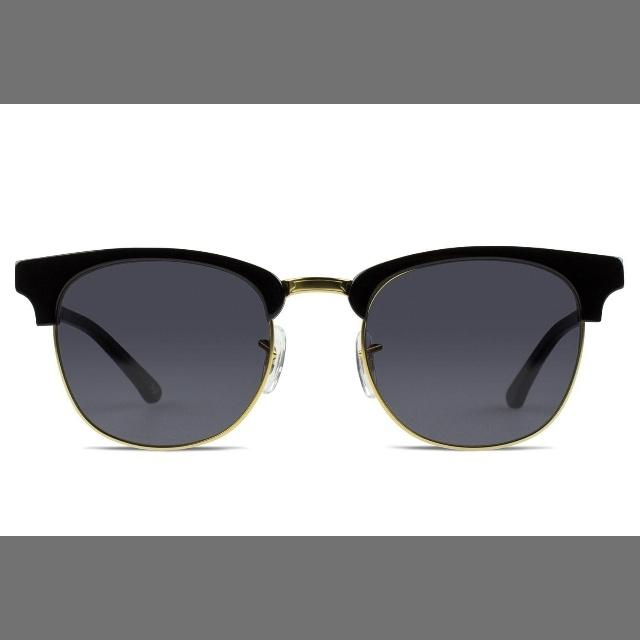Sunglasses: (4, 219, 632, 477)
